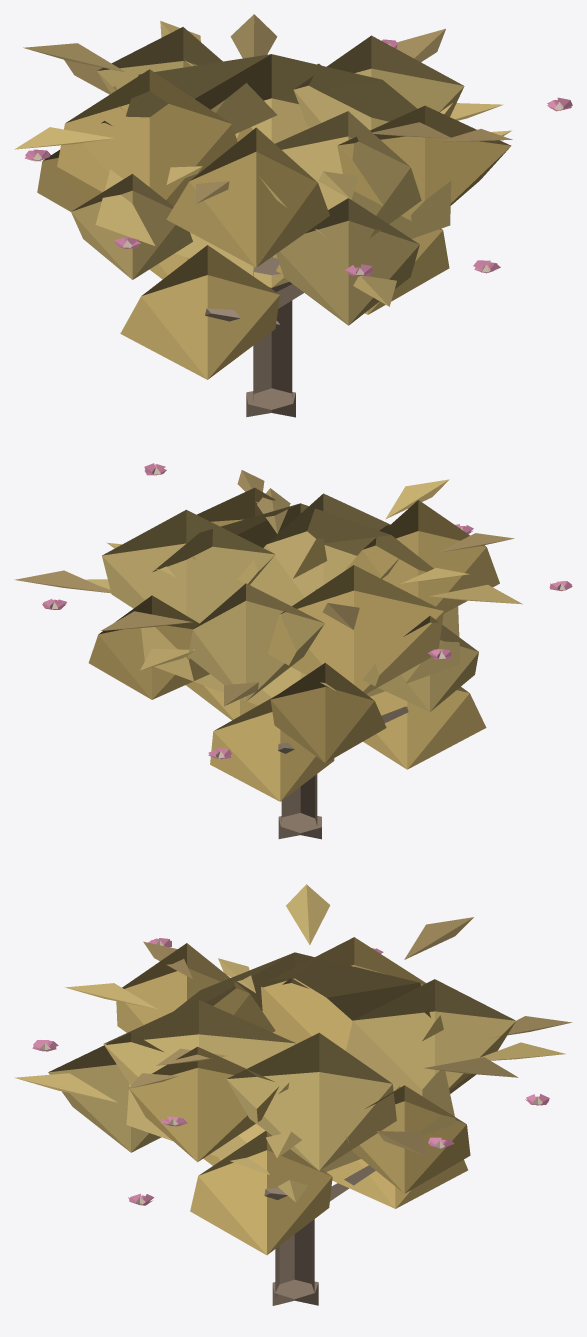
Rendered from shu.chuilui@flowering__autumn.glb.
The picture shows the model from 3 angles, top to bottom: view 1: azimuth 30°, elevation 25°; view 2: azimuth 150°, elevation 25°; view 3: azimuth 270°, elevation 25°; orthographic projection. The views are drawn at different scales.
Parts seen in each view (by area): view 1: shu.chuilui@flowering__autumn; view 2: shu.chuilui@flowering__autumn; view 3: shu.chuilui@flowering__autumn.
Part boxes in pixels (x1,y1,x2,y2): shu.chuilui@flowering__autumn: [14, 14, 572, 417]; shu.chuilui@flowering__autumn: [14, 463, 572, 839]; shu.chuilui@flowering__autumn: [14, 884, 572, 1305].
Bounding box in the file's own units: 15.32 × 10.49 × 15.84.
